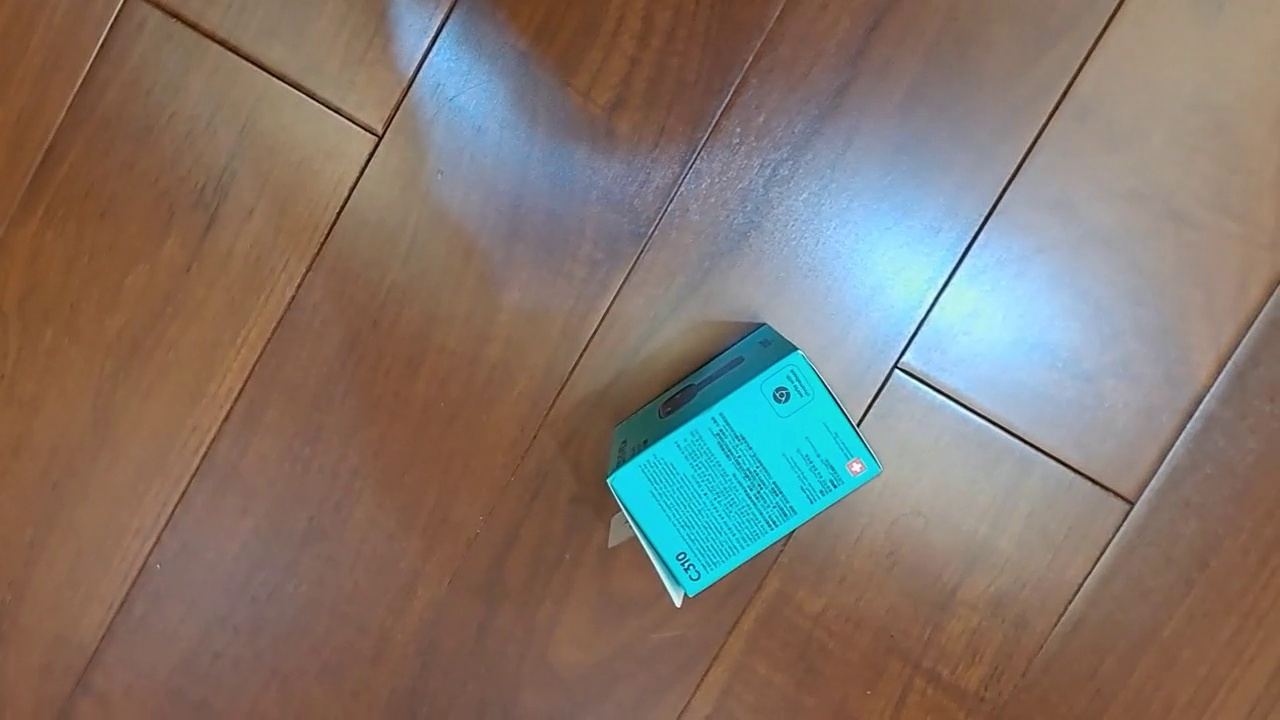webcam: (605, 322, 883, 608)
